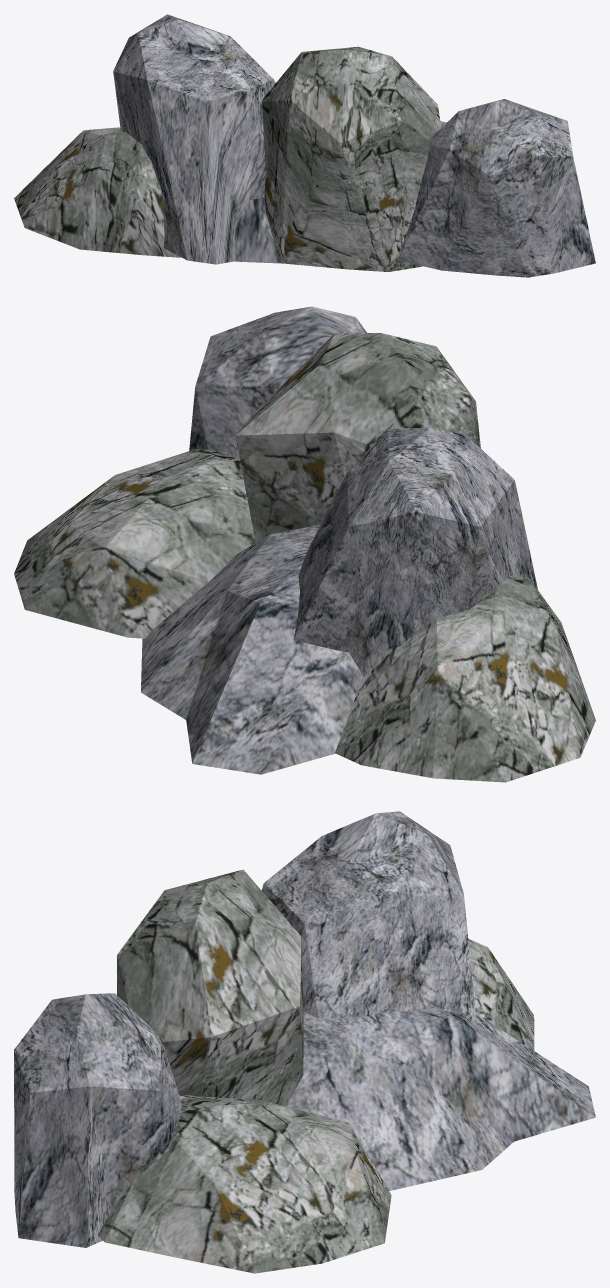
Rendered from cunt_rockgp2_15.obj.
3 renders of one model, top to bottom at view 1: azimuth 30°, elevation 25°; view 2: azimuth 150°, elevation 25°; view 3: azimuth 270°, elevation 25°, orthographic. The views are drawn at different scales.
Parts seen in each view (by area): view 1: cunt_rockgp2_15; view 2: cunt_rockgp2_15; view 3: cunt_rockgp2_15.
Boxes of the visible parts, <box> form: cunt_rockgp2_15: <box>14,14,595,277</box>; cunt_rockgp2_15: <box>14,306,595,782</box>; cunt_rockgp2_15: <box>14,811,595,1273</box>.
Size of the model in its own units: 18.12 by 7.59 by 15.43.
